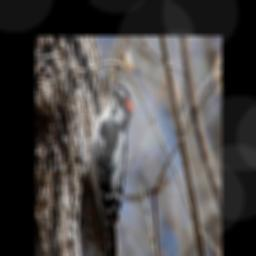Woodpecker: (87, 79, 135, 256)
